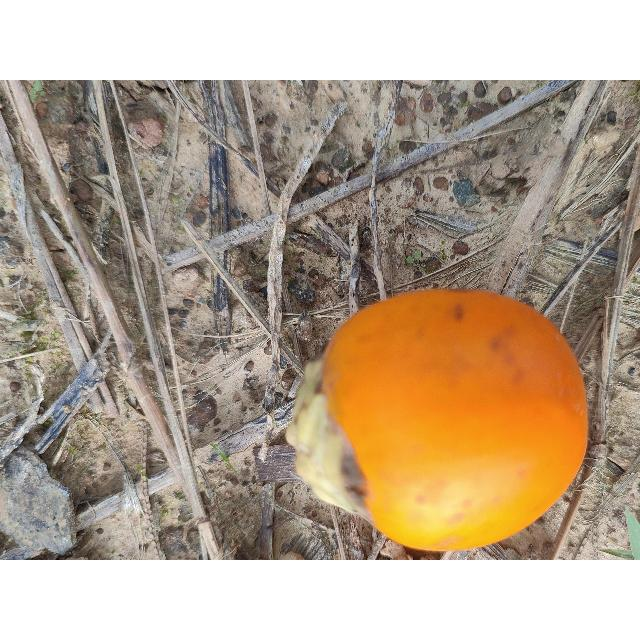good: (285, 288, 591, 555)
